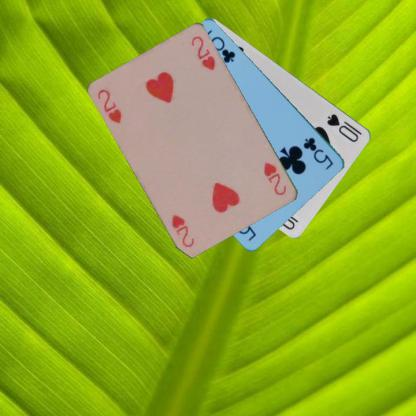10s: (324, 111, 364, 143)
2h: (95, 86, 124, 124), (261, 159, 288, 197)
5c: (301, 135, 335, 171)
